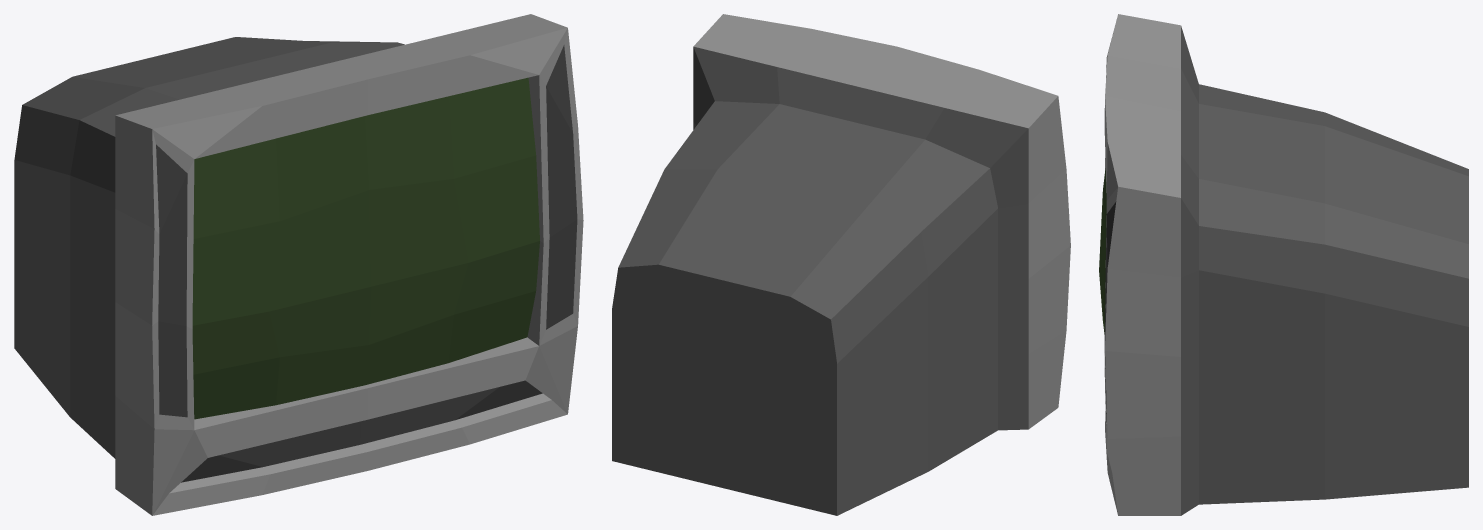
File: TelevisionSet4.fbx
3 renders of one model, left to right at view 1: azimuth 30°, elevation 25°; view 2: azimuth 150°, elevation 25°; view 3: azimuth 270°, elevation 25°, orthographic. The views are drawn at different scales.
Visible parts, largest first — view 1: Cube.002; view 2: Cube.002; view 3: Cube.002.
Boxes of the visible parts, x1,y1,x2,y2 form: Cube.002: (14, 14, 583, 515); Cube.002: (612, 14, 1070, 515); Cube.002: (1099, 14, 1468, 515).
Size of the model in its own units: 1.21 by 1.05 by 1.05.
